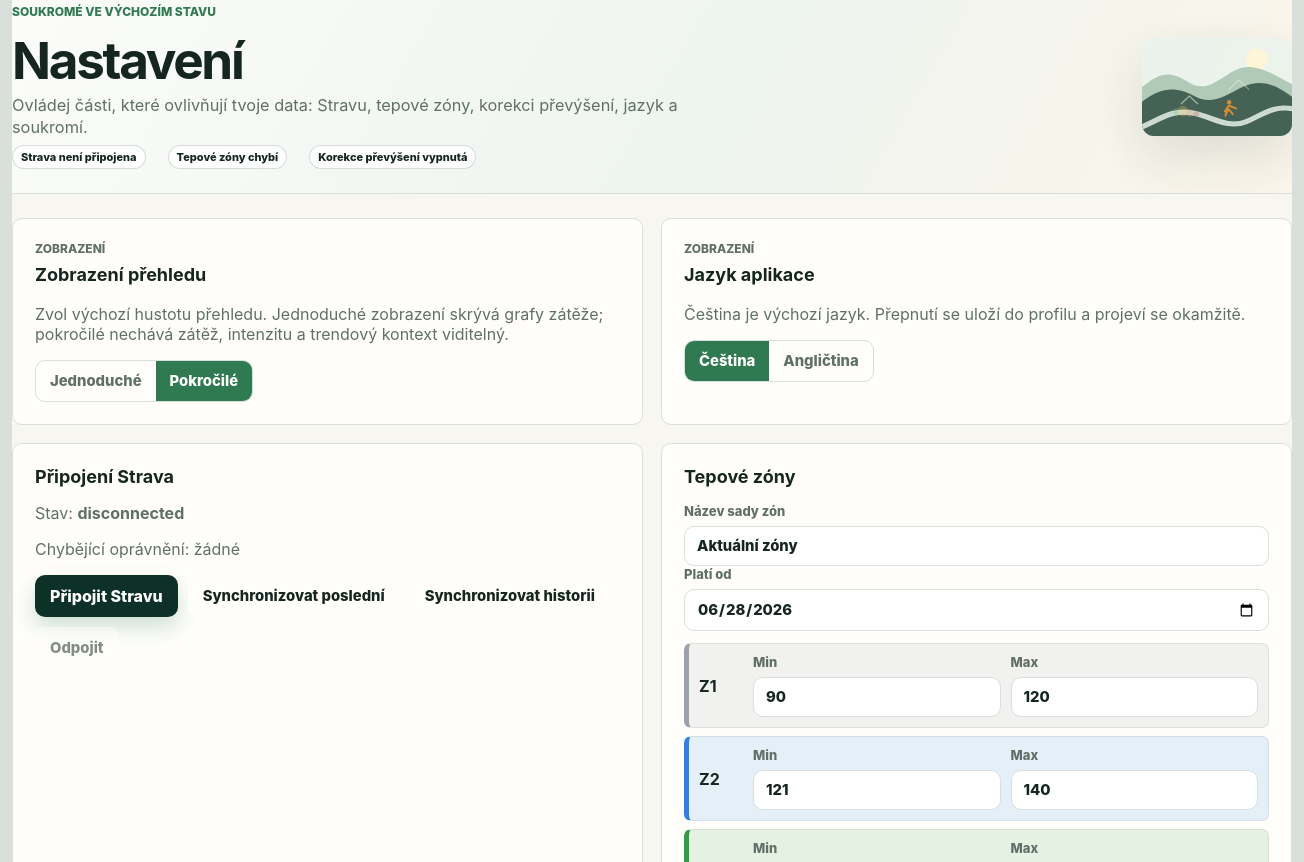
Test case: SettingsPage › saves application language from settings
Expected: the heading "Nastavení" is shown, [12,29,242,91]
Click the button "Angličtina" at (821, 361), box [769,341,873,381]
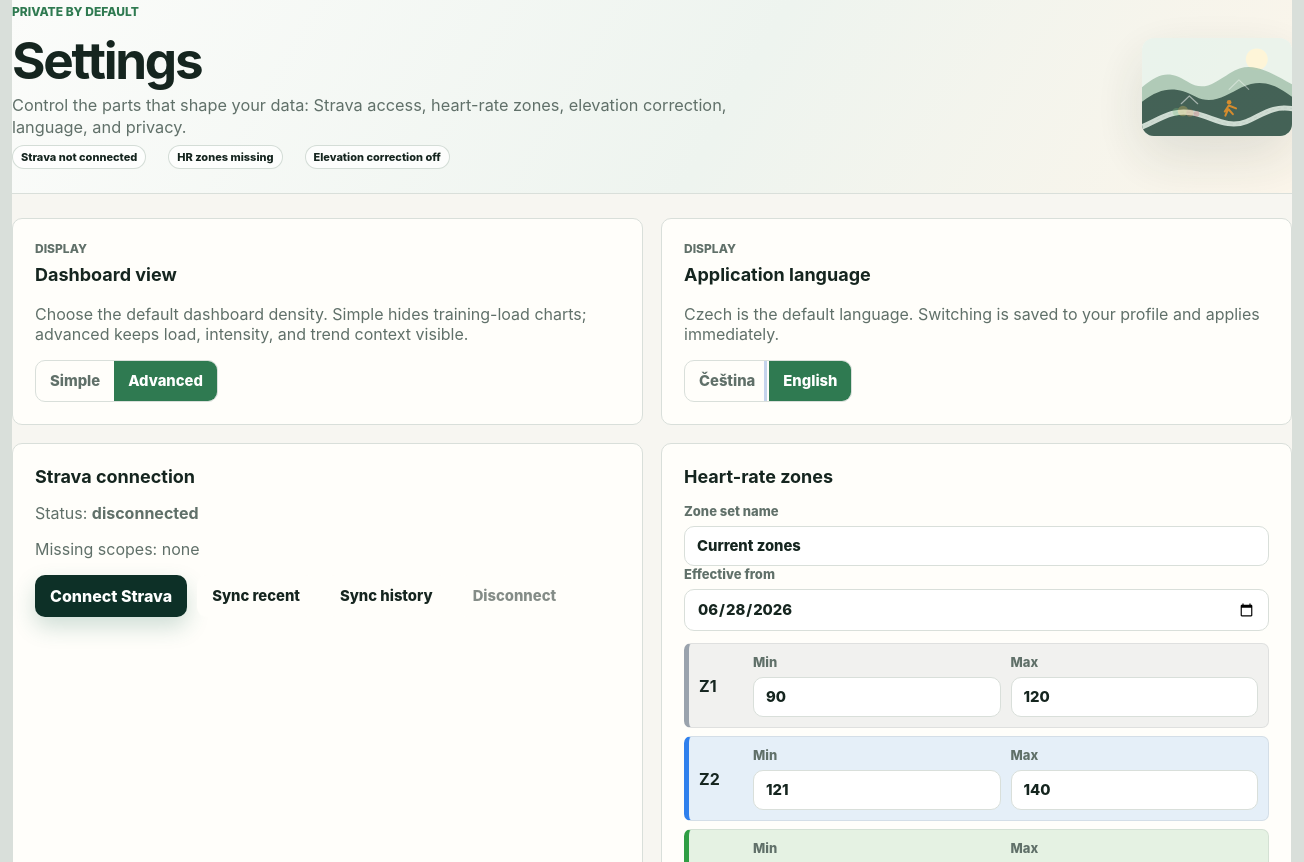
Expected: the heading "Settings" is shown, [12,29,201,91]
